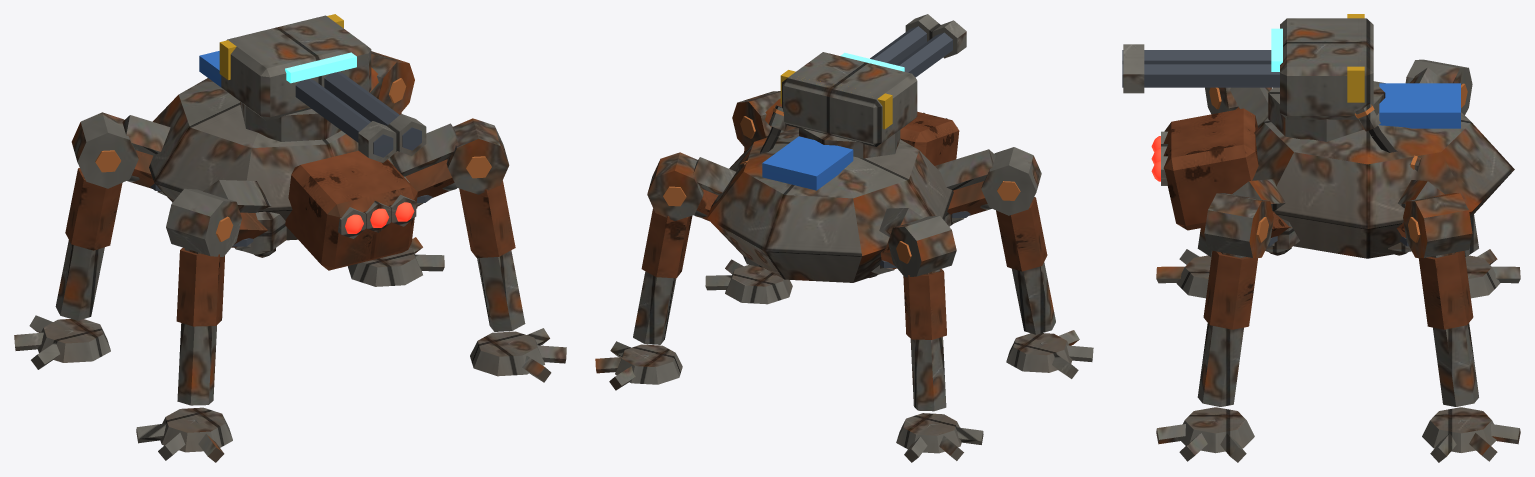
Rendered from dronecombat.glb.
The picture shows the model from 3 angles, left to right: view 1: azimuth 30°, elevation 25°; view 2: azimuth 150°, elevation 25°; view 3: azimuth 270°, elevation 25°; orthographic projection. The views are drawn at different scales.
Visible parts, largest first — view 1: dronecombat, zshin_0_l, zshin_0_r, zshin_1_l, zleg_0_l, zleg_0_r, zleg_1_l, zshin_1_r, zleg_1_r; view 2: dronecombat, zshin_1_l, zshin_1_r, zshin_0_l, zleg_0_l, zleg_1_l, zleg_1_r, zshin_0_r, zleg_0_r; view 3: dronecombat, zshin_0_r, zshin_1_r, zleg_0_r, zleg_1_r, zshin_1_l, zshin_0_l, zleg_0_l, zleg_1_l.
Boxes of the visible parts, <box> form: dronecombat: <box>149,14,426,270</box>; zshin_0_l: <box>136,247,232,462</box>; zshin_0_r: <box>459,180,566,382</box>; zshin_1_l: <box>14,168,122,369</box>; zleg_0_l: <box>166,180,286,257</box>; zleg_0_r: <box>390,118,509,208</box>; zleg_1_l: <box>71,112,170,195</box>; zshin_1_r: <box>348,113,444,286</box>; zleg_1_r: <box>369,51,414,114</box>; dronecombat: <box>707,14,966,282</box>; zshin_1_l: <box>896,269,983,462</box>; zshin_1_r: <box>595,208,692,390</box>; zshin_0_l: <box>996,197,1093,378</box>; zleg_0_l: <box>935,147,1041,226</box>; zleg_1_l: <box>869,208,956,277</box>; zleg_1_r: <box>647,152,735,221</box>; zshin_0_r: <box>705,147,792,304</box>; zleg_0_r: <box>732,91,795,149</box>; dronecombat: <box>1122,14,1514,258</box>; zshin_0_r: <box>1156,250,1257,462</box>; zshin_1_r: <box>1418,250,1520,462</box>; zleg_0_r: <box>1204,179,1299,257</box>; zleg_1_r: <box>1387,180,1472,257</box>; zshin_1_l: <box>1464,214,1520,298</box>; zshin_0_l: <box>1156,227,1212,298</box>; zleg_0_l: <box>1205,87,1271,127</box>; zleg_1_l: <box>1405,59,1472,115</box>.
Bounding box in the file's own units: 0.818 × 0.6069 × 0.682.
10 materials, 2 textured.
